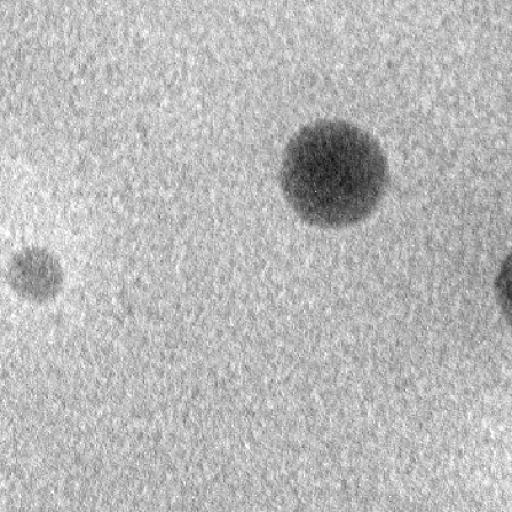Nanoparticles: (280, 116, 386, 234), (6, 247, 65, 303), (494, 251, 512, 315)
